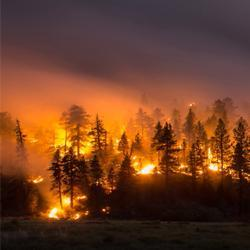fire: (137, 161, 155, 176), (206, 163, 224, 174), (48, 206, 59, 221), (63, 197, 71, 206)
